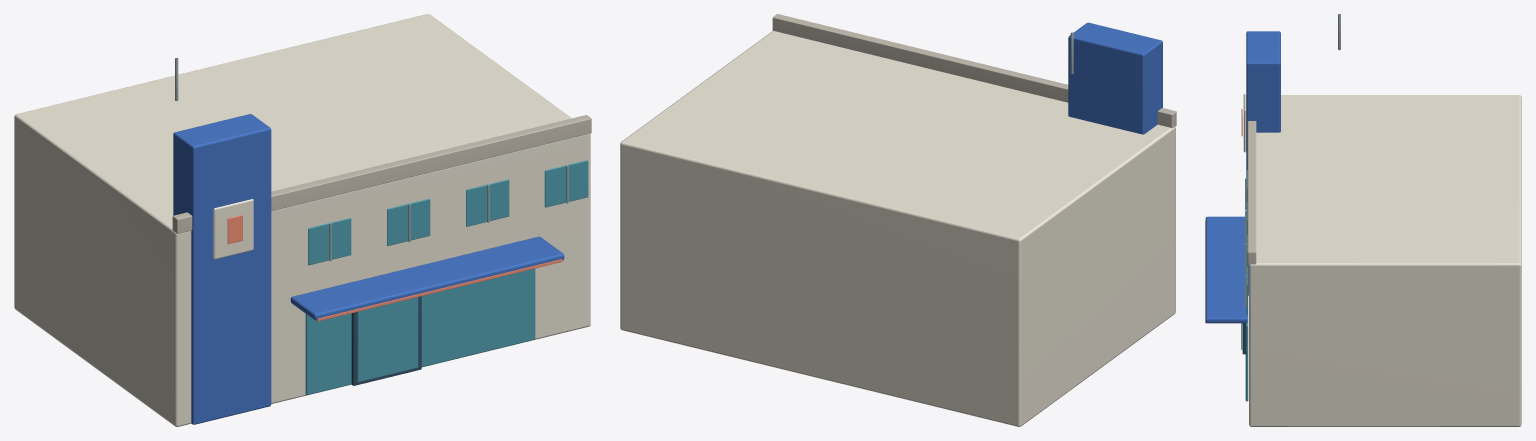
Rendered from HL_Building_PoliceStation.fbx.
The picture shows the model from 3 angles, left to right: view 1: azimuth 30°, elevation 25°; view 2: azimuth 150°, elevation 25°; view 3: azimuth 270°, elevation 25°; orthographic projection. The views are drawn at different scales.
Visible parts, largest first — view 1: Station | civic main shell, Station | cobalt vertical tower, Station | glazed lobby, Station | cantilever canopy, Station | roof parapet, Station | door glass, Station | crest backing, Station | upper office window.003, Station | upper office window, Station | upper office window.001, Station | upper office window.002, Station | main entrance (+1 smaller); view 2: Station | civic main shell, Station | cobalt vertical tower, Station | roof parapet; view 3: Station | civic main shell, Station | cantilever canopy, Station | cobalt vertical tower, Station | roof parapet, Station | glazed lobby.
Part boxes in pixels (bbox=[...]): Station | civic main shell: bbox=[14, 14, 590, 426]; Station | cobalt vertical tower: bbox=[173, 114, 271, 424]; Station | glazed lobby: bbox=[305, 268, 535, 395]; Station | cantilever canopy: bbox=[290, 236, 564, 320]; Station | roof parapet: bbox=[172, 115, 591, 233]; Station | door glass: bbox=[357, 297, 418, 382]; Station | crest backing: bbox=[213, 199, 253, 259]; Station | upper office window.003: bbox=[544, 160, 588, 207]; Station | upper office window: bbox=[308, 218, 351, 265]; Station | upper office window.001: bbox=[387, 198, 430, 245]; Station | upper office window.002: bbox=[466, 179, 509, 226]; Station | main entrance: bbox=[351, 296, 421, 385]; Station | civic main shell: bbox=[620, 31, 1175, 426]; Station | cobalt vertical tower: bbox=[1068, 22, 1162, 134]; Station | roof parapet: bbox=[772, 14, 1176, 128]; Station | civic main shell: bbox=[1249, 95, 1521, 426]; Station | cantilever canopy: bbox=[1205, 216, 1247, 323]; Station | cobalt vertical tower: bbox=[1246, 31, 1280, 295]; Station | roof parapet: bbox=[1247, 121, 1256, 264]; Station | glazed lobby: bbox=[1245, 264, 1248, 401].
Bounding box in the file's own units: 1580 × 1151 × 1242.
